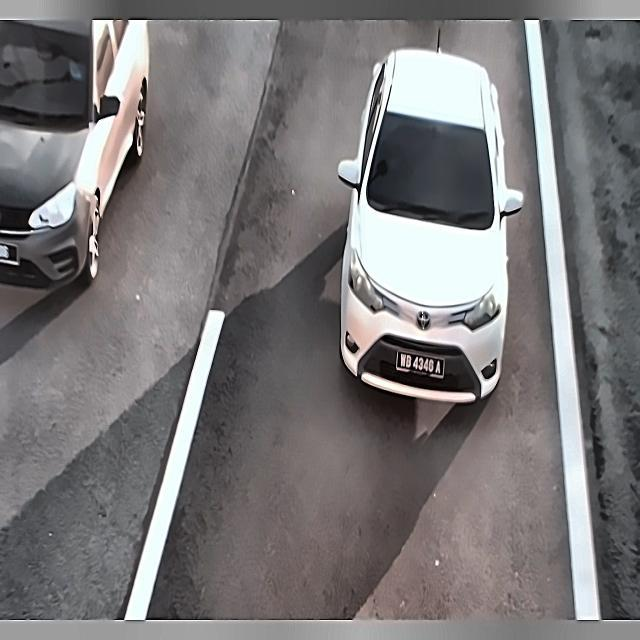car: (392, 340, 452, 386), (0, 239, 21, 269)
